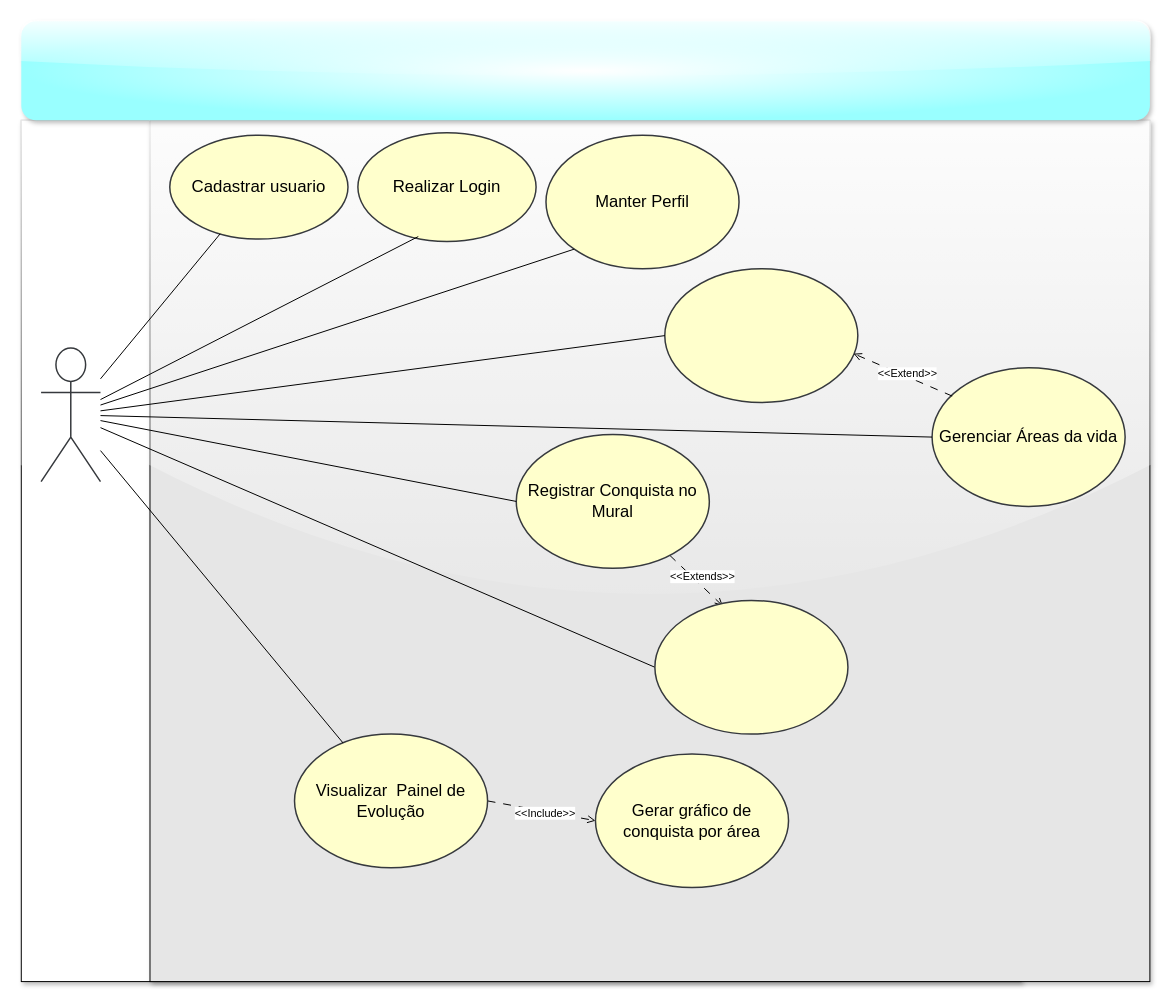
Some shapes in this 1173 by 1006 pixel diagram are drawn without their labels. Each missing label, with the centre of its shape:
Atualizar status: [751,666]
Gerenciar Metas: [761,335]
Usuário: [70,414]
WeDo Sistema de Gestão Pessoal: [586,72]
